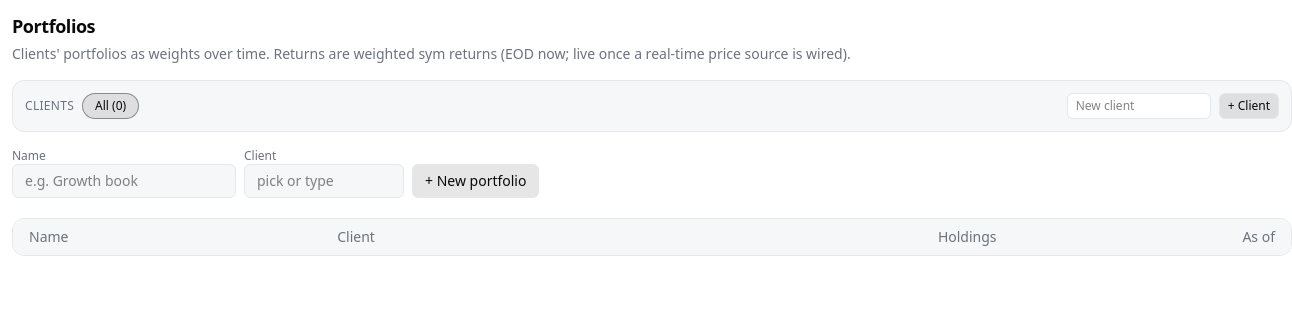
Test case: PortfoliosPage create + race hardening (console hardening) › a slow stale mount failure does not clobber a newer successful load (generation token)
This screenshot has width=1292, height=309.
Type "New" into the field with placeholder "e.g. Growth book".
click(124, 181); type("New")  # box [12,164,236,198]
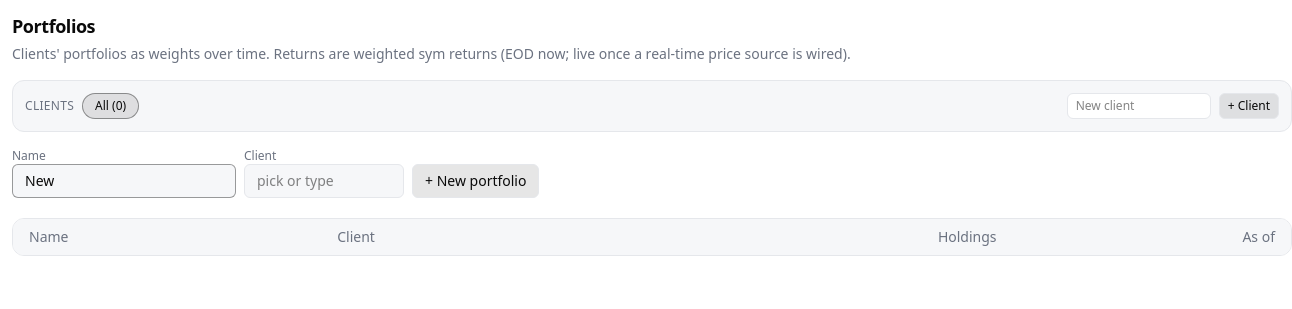
Click the button "+ New portfolio".
click(476, 181)  # box [412,164,540,198]
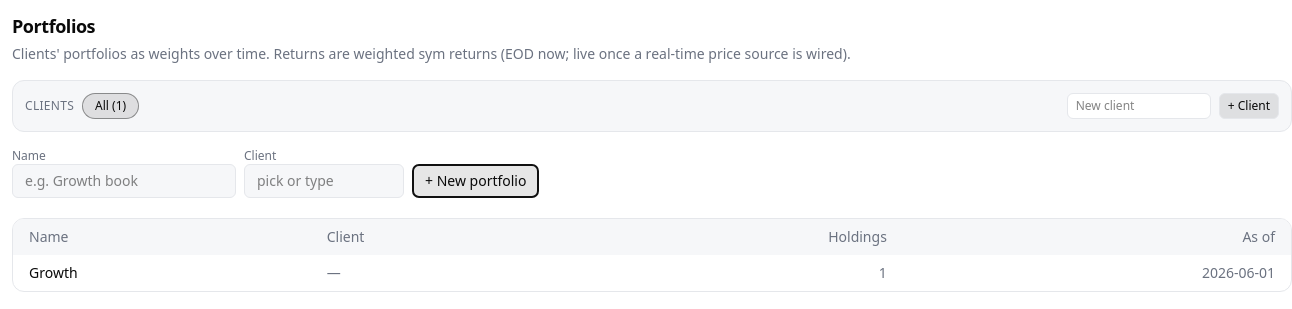
Now the link "Growth" is shown, box [29,263,78,282]
